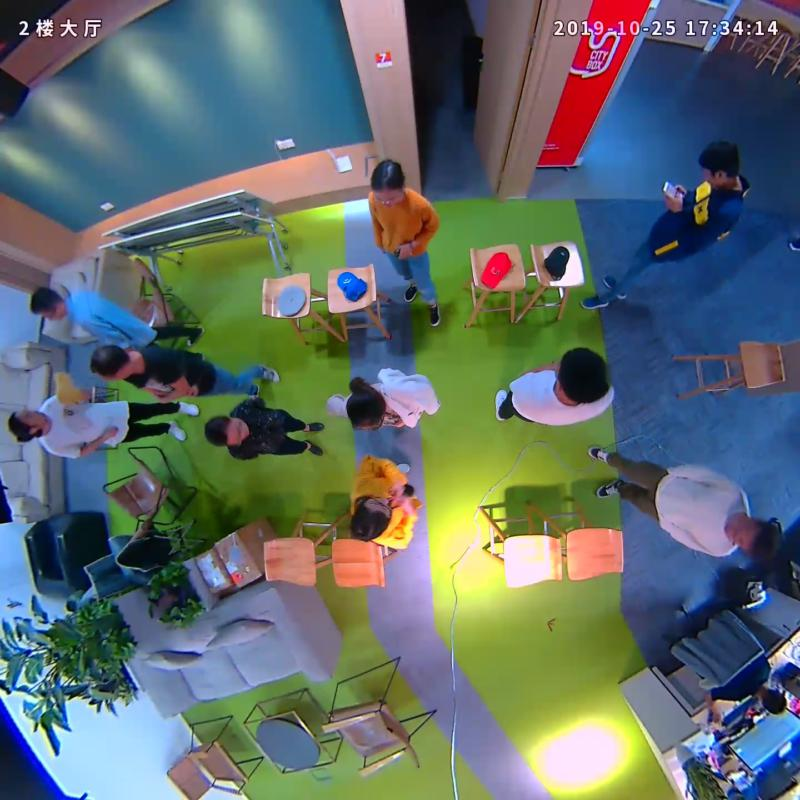head: (556, 348, 609, 405), (724, 513, 782, 558), (698, 140, 740, 185), (350, 496, 391, 542), (368, 158, 404, 204), (346, 388, 385, 430), (89, 344, 131, 381), (203, 415, 250, 447), (29, 285, 66, 319), (8, 409, 48, 437)
